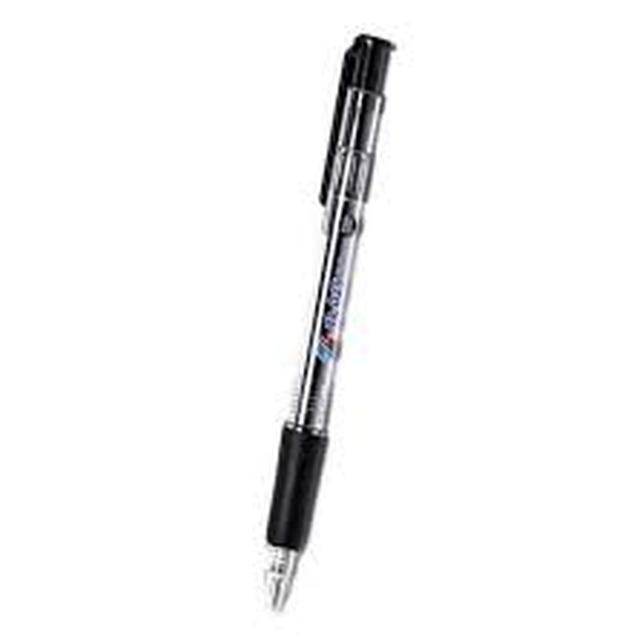pen: (231, 24, 409, 628)
